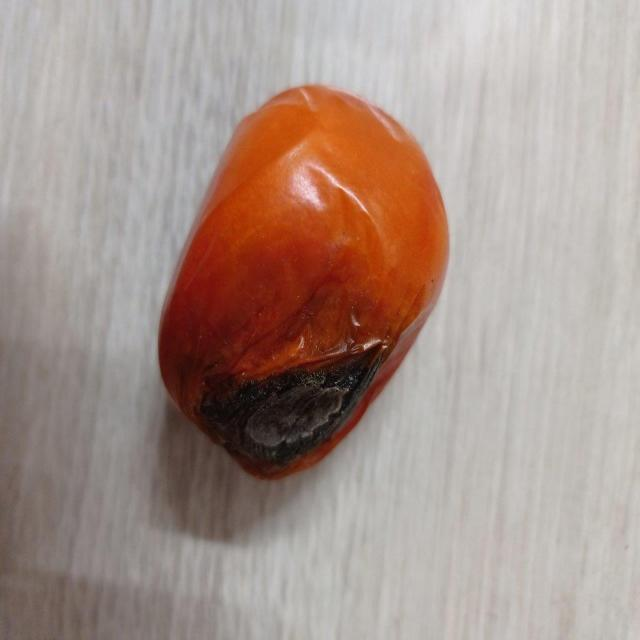Rotten: (159, 82, 450, 481)
